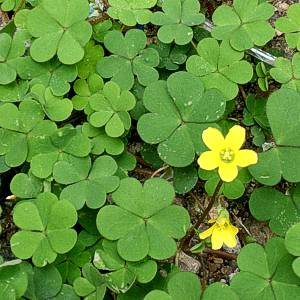oxalis: (5, 10, 211, 282), (168, 38, 300, 295)
